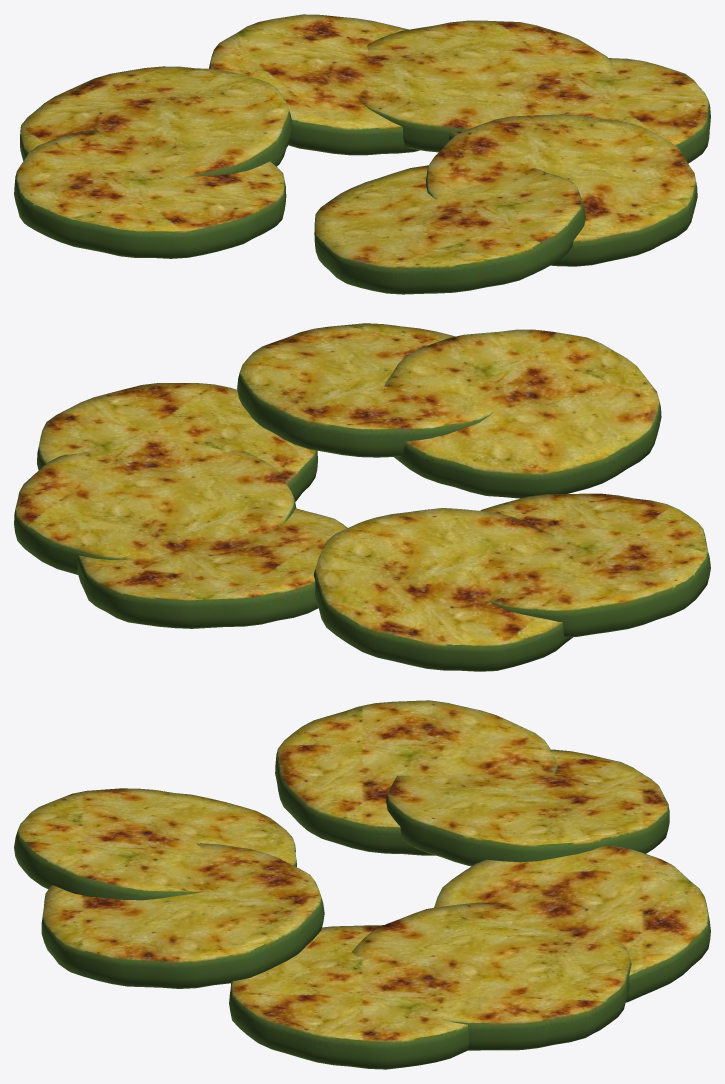
The model's file is savory-zucchini.glb.
3 renders of one model, top to bottom at view 1: azimuth 30°, elevation 25°; view 2: azimuth 150°, elevation 25°; view 3: azimuth 270°, elevation 25°, orthographic. The views are drawn at different scales.
Parts seen in each view (by area): view 1: savory-zucchini; view 2: savory-zucchini; view 3: savory-zucchini.
Part boxes in pixels (x1,y1,x2,y2): savory-zucchini: [14, 14, 710, 294]; savory-zucchini: [14, 323, 710, 671]; savory-zucchini: [14, 700, 710, 1069].
Bounding box in the file's own units: 2.12 × 0.2444 × 1.91.
Materials: 1 (1 with a texture image).
